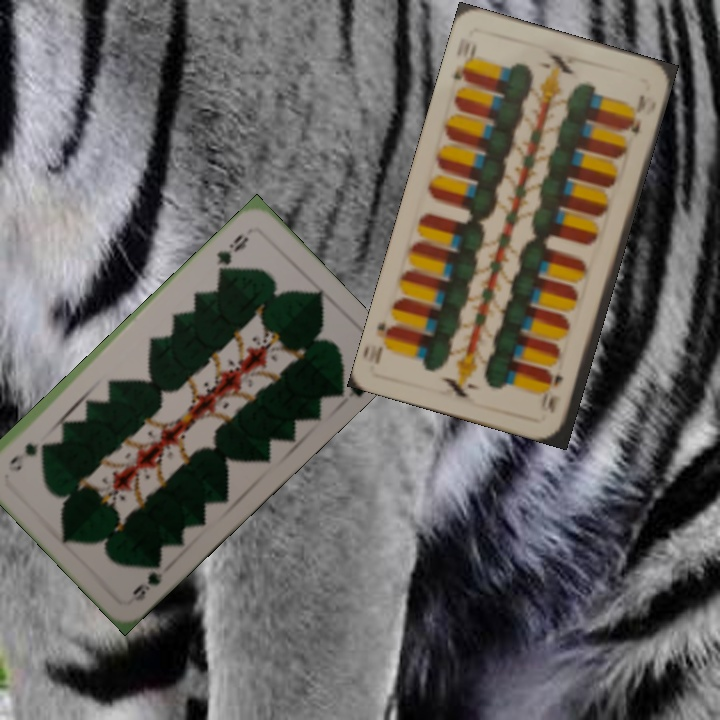E10: (449, 40, 477, 85), (543, 370, 566, 416)
G9: (128, 552, 165, 604), (212, 230, 252, 276)
